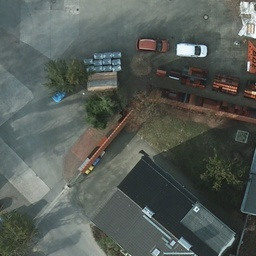car: (136, 38, 170, 53), (175, 43, 208, 58)
